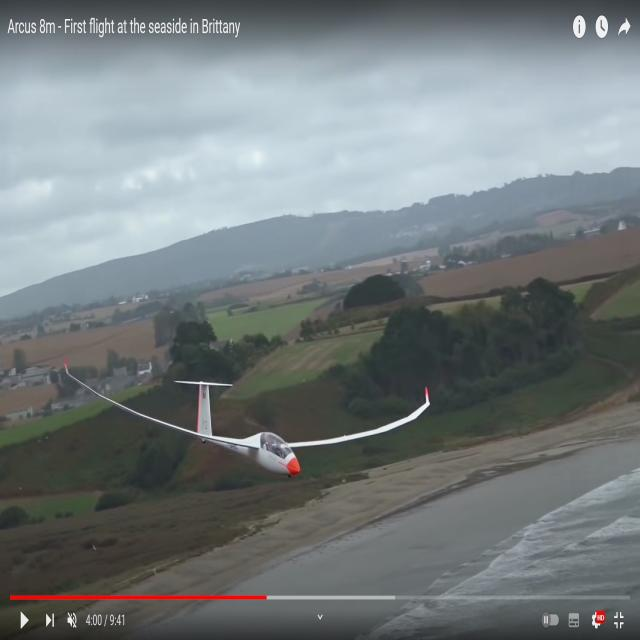iha: (61, 394, 430, 436)
